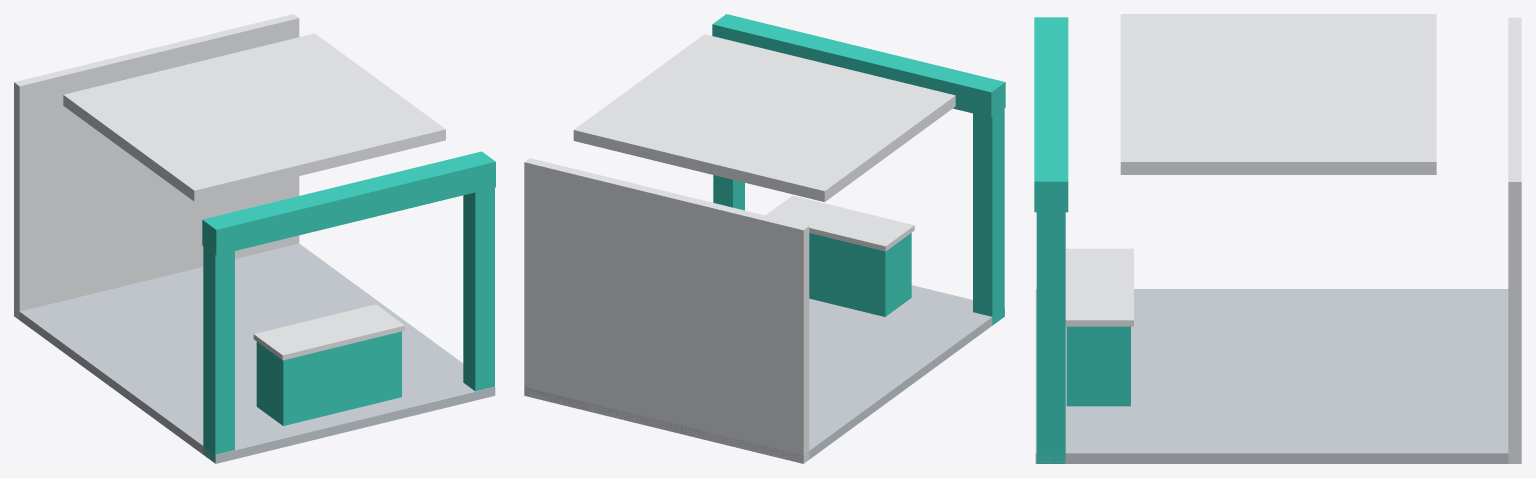
3 views of the same model, side by side, from view 1: azimuth 30°, elevation 25°; view 2: azimuth 150°, elevation 25°; view 3: azimuth 270°, elevation 25° (orthographic). The views are drawn at different scales.
Visible parts, largest first — view 1: Exhibition Booth Concept; view 2: Exhibition Booth Concept; view 3: Exhibition Booth Concept.
Part boxes in pixels (x1,y1,x2,y2): Exhibition Booth Concept: [14, 14, 495, 463]; Exhibition Booth Concept: [524, 14, 1005, 463]; Exhibition Booth Concept: [1034, 14, 1521, 463].
Bounding box in the file's own units: 4 × 3.34 × 5.02.
